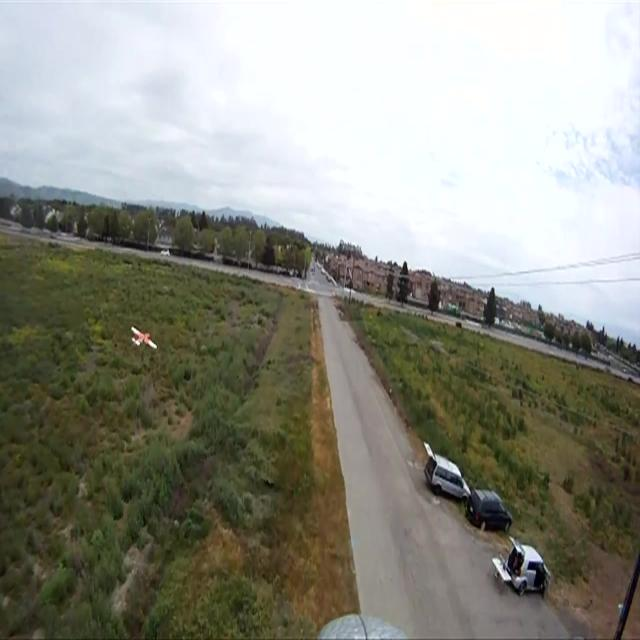iha: (131, 324, 158, 351)
